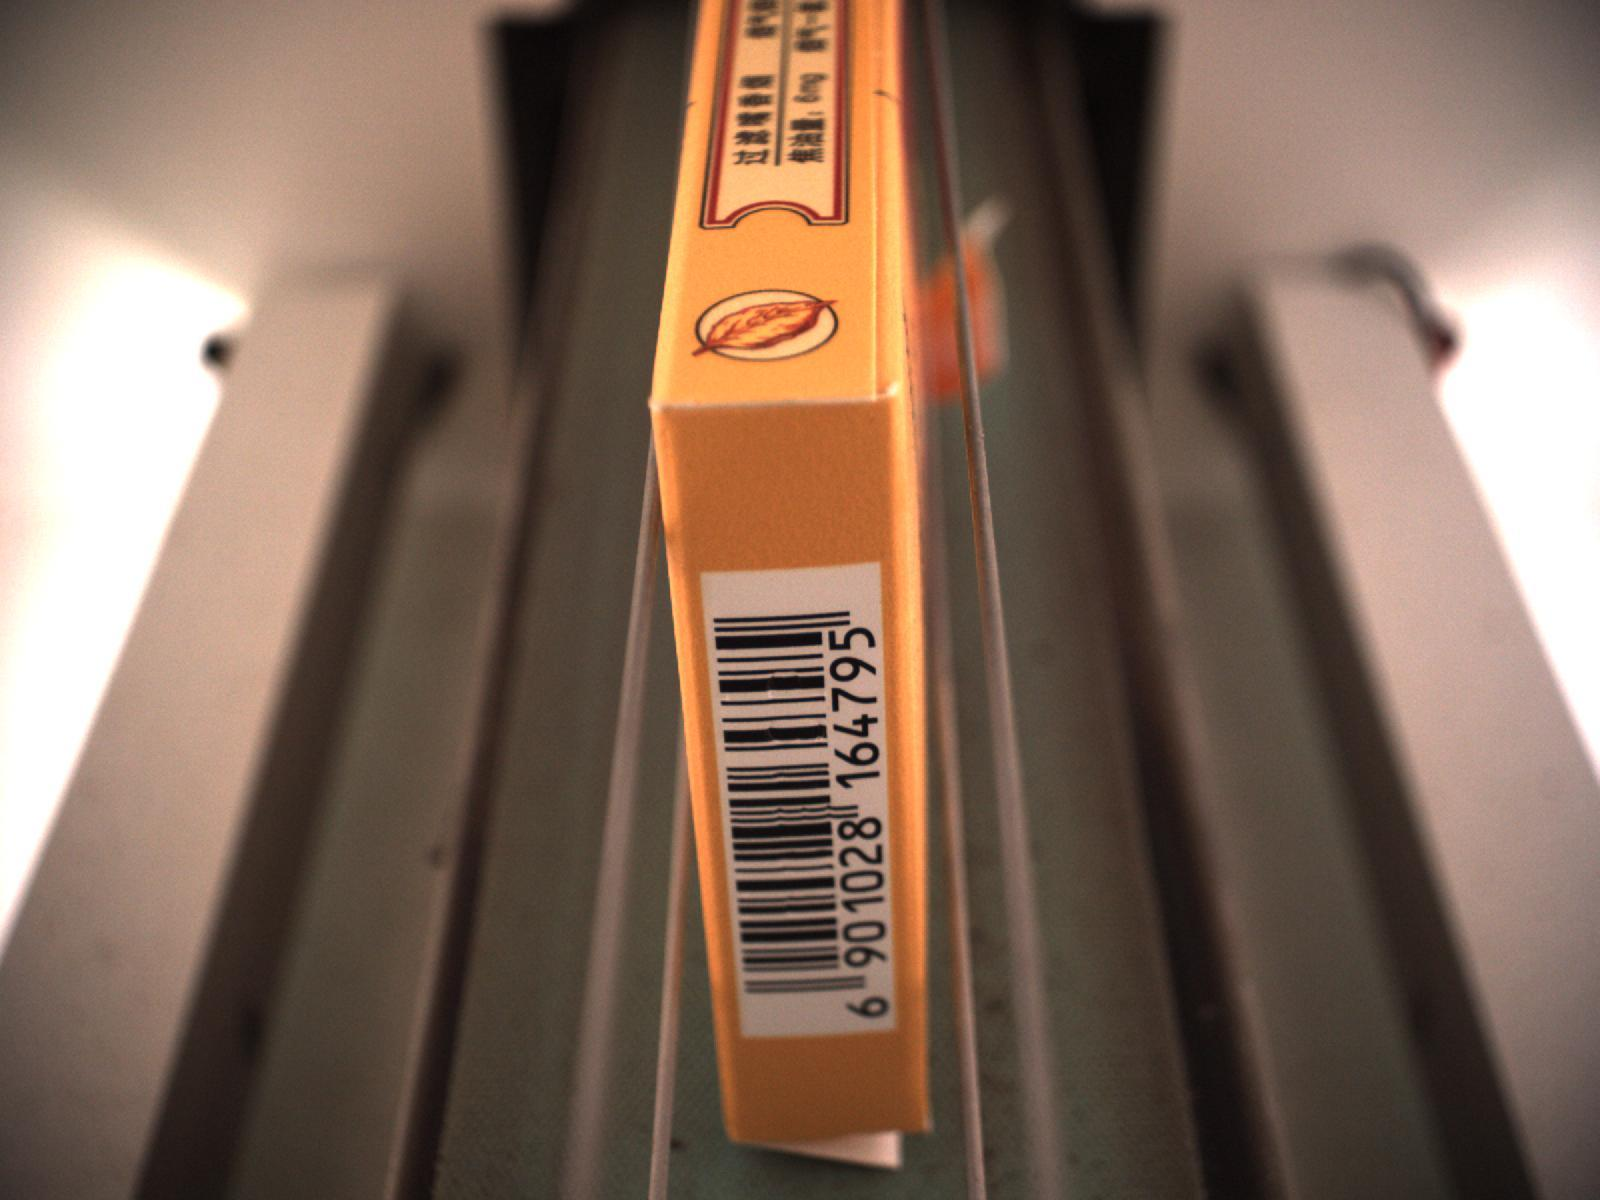skewed_bottom_3: (729, 1117, 936, 1175)
skewed_upper_3: (852, 1, 911, 408)
